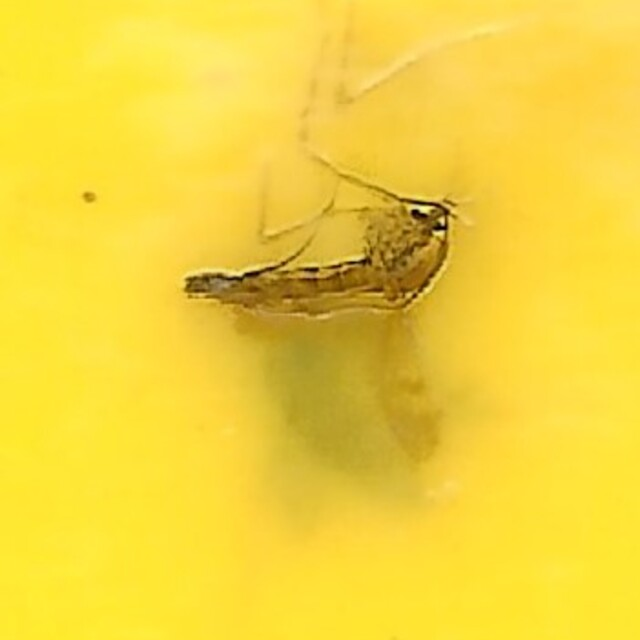Nematocera: (182, 186, 458, 454)
